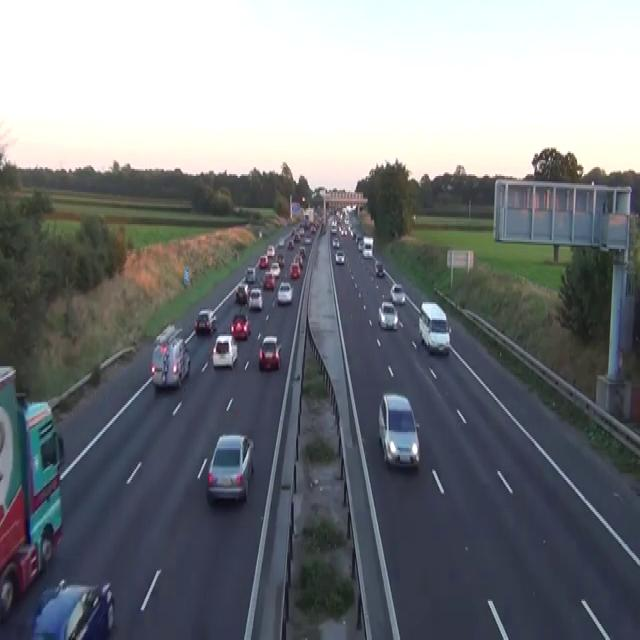Car: (32, 578, 115, 638), (206, 434, 254, 503), (378, 393, 420, 467), (150, 336, 190, 389), (418, 300, 451, 354), (212, 332, 237, 370), (258, 334, 281, 370), (378, 300, 398, 330), (194, 308, 217, 334), (155, 323, 182, 345), (230, 313, 250, 339), (277, 281, 293, 304), (390, 283, 405, 304), (248, 288, 262, 309), (235, 283, 248, 304), (262, 270, 274, 290), (245, 265, 256, 283), (289, 262, 300, 278), (374, 260, 384, 276), (335, 249, 345, 265), (270, 262, 280, 278), (258, 254, 268, 268), (293, 252, 303, 266), (362, 245, 372, 258), (277, 252, 284, 266), (266, 244, 274, 256), (330, 220, 337, 233), (357, 238, 364, 251), (298, 245, 305, 258), (332, 237, 339, 247), (356, 233, 363, 243), (287, 240, 294, 249), (293, 233, 300, 242), (304, 236, 311, 244), (340, 228, 347, 236), (321, 222, 326, 233), (278, 237, 284, 246), (310, 224, 316, 233), (302, 217, 308, 226), (350, 228, 355, 238), (298, 226, 304, 234), (344, 215, 349, 224), (291, 228, 296, 236), (258, 230, 262, 238)
Truck: (0, 364, 64, 620)
